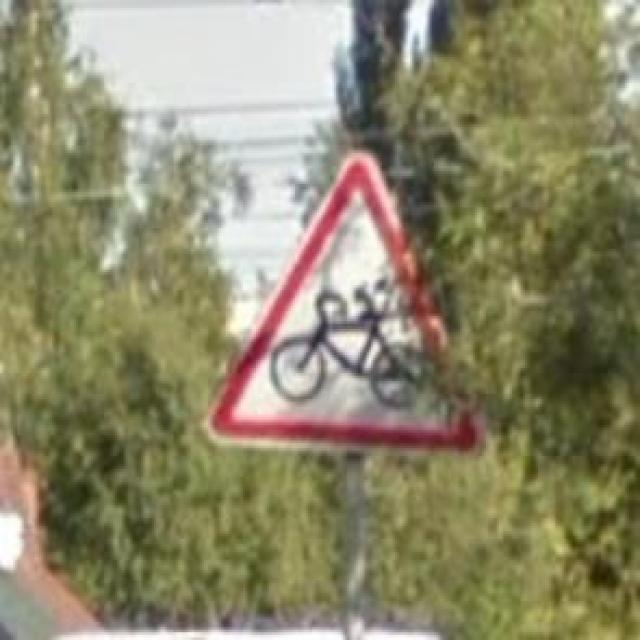traffic_sign: (200, 153, 490, 458)
